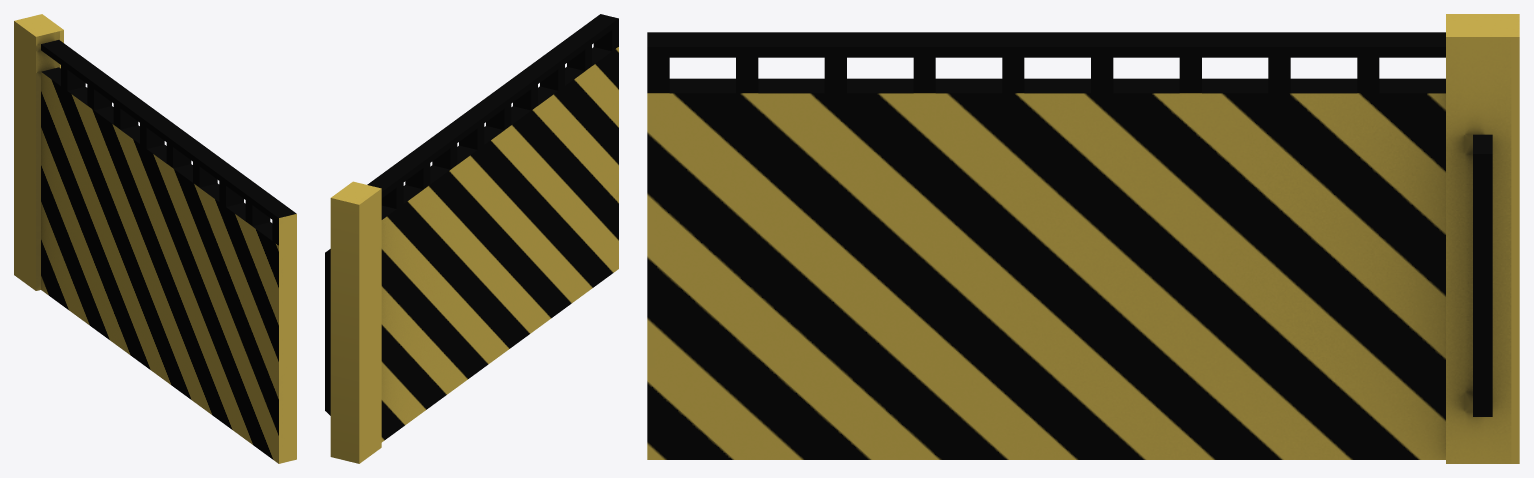
The model's file is Gate_Main.fbx.
3 renders of one model, left to right at view 1: azimuth 30°, elevation 25°; view 2: azimuth 150°, elevation 25°; view 3: azimuth 270°, elevation 25°, orthographic. The views are drawn at different scales.
Parts seen in each view (by area): view 1: Gate_Main; view 2: Gate_Main; view 3: Gate_Main.
Boxes of the visible parts, x1,y1,x2,y2 form: Gate_Main: [14, 14, 296, 463]; Gate_Main: [325, 14, 618, 463]; Gate_Main: [647, 14, 1519, 463].
Size of the model in its own units: 0.3629 by 2.11 by 3.91.
